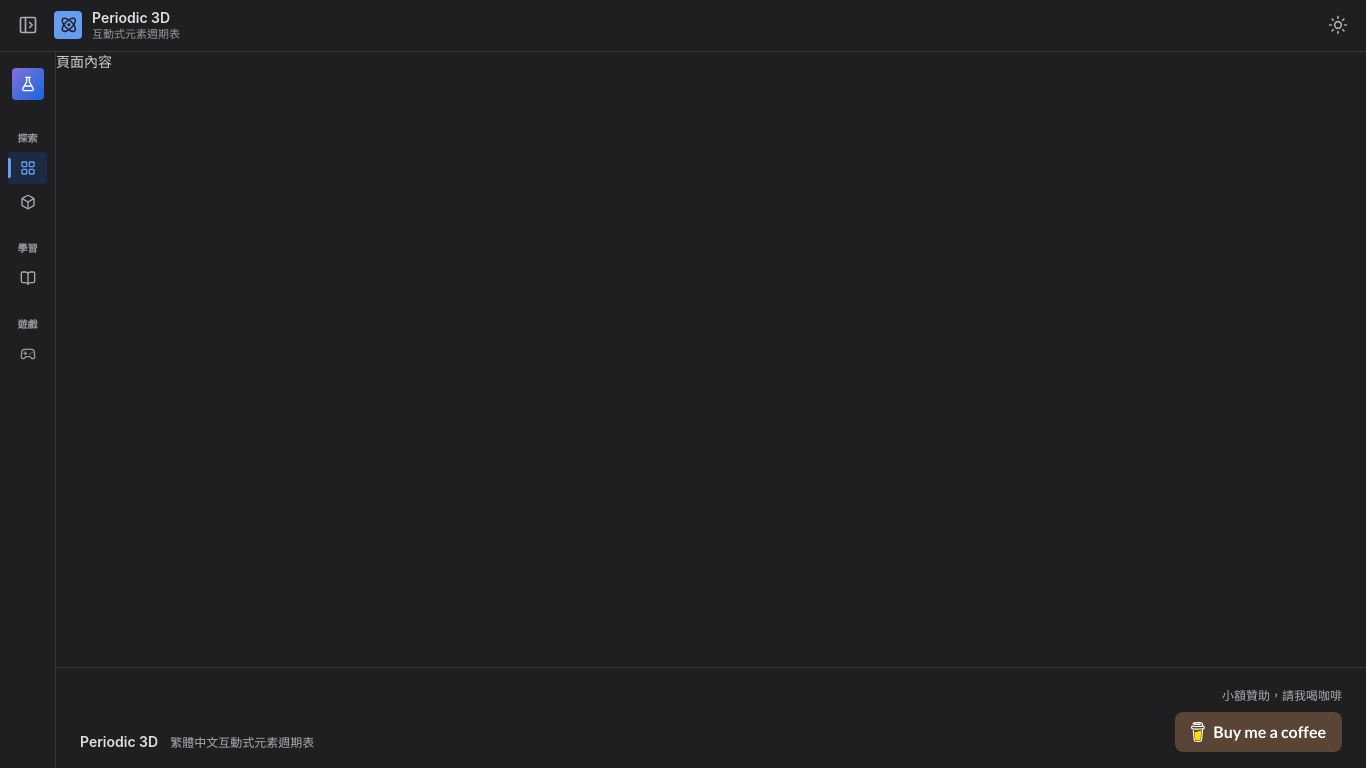
Test: AppShell › opens a drawer on phones that closes with Escape and returns focus
Click the button named "主選單" at (28, 25), box left=12, top=9, right=44, bottom=41
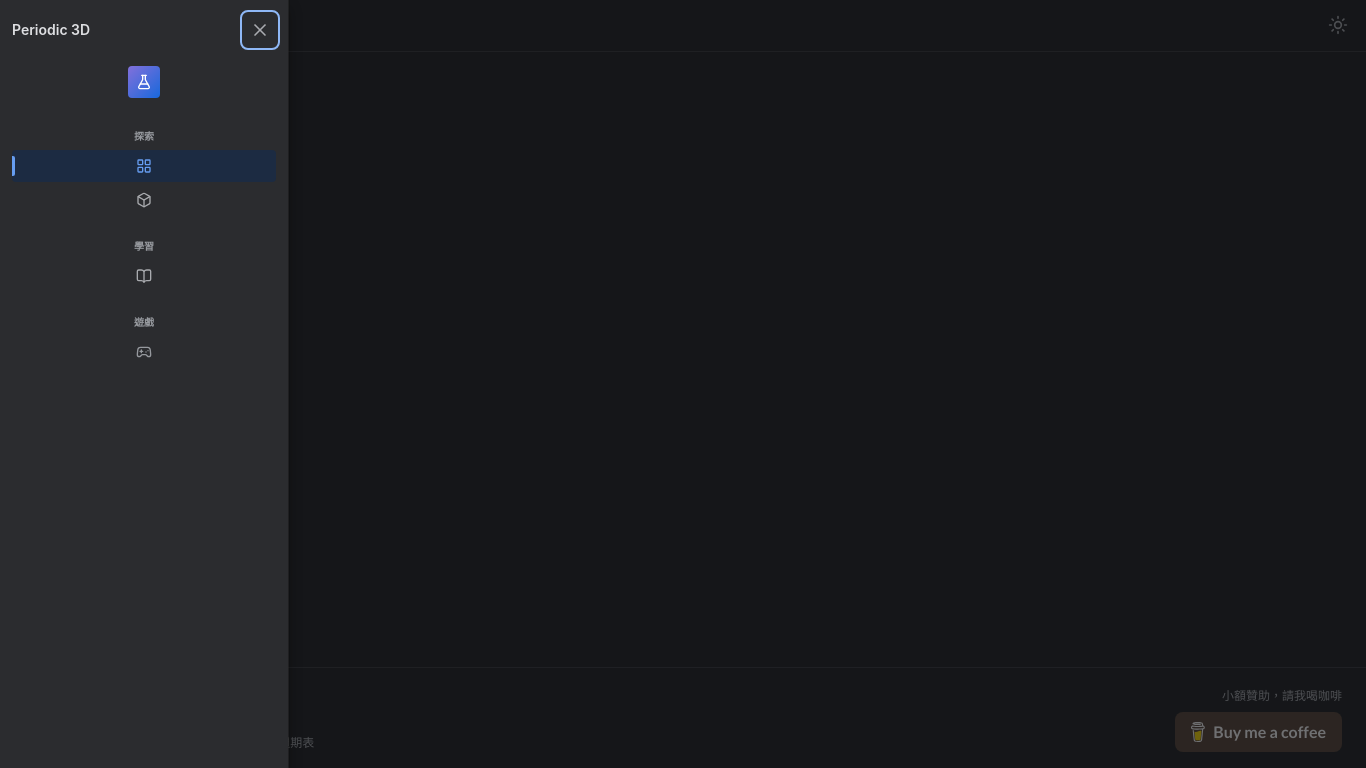
Check: the link named "元素週期表" is shown, box left=12, top=150, right=276, bottom=182
Press Escape
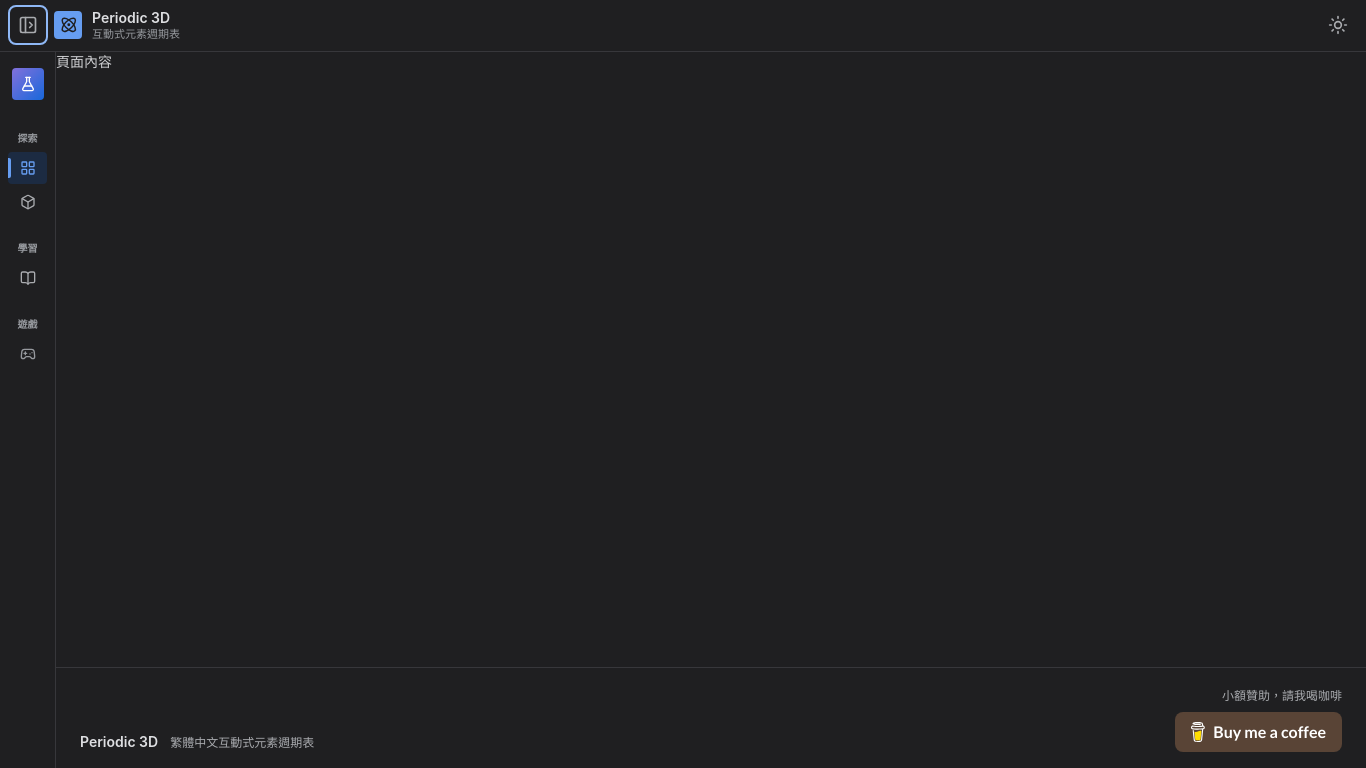
Check: the dialog is gone
